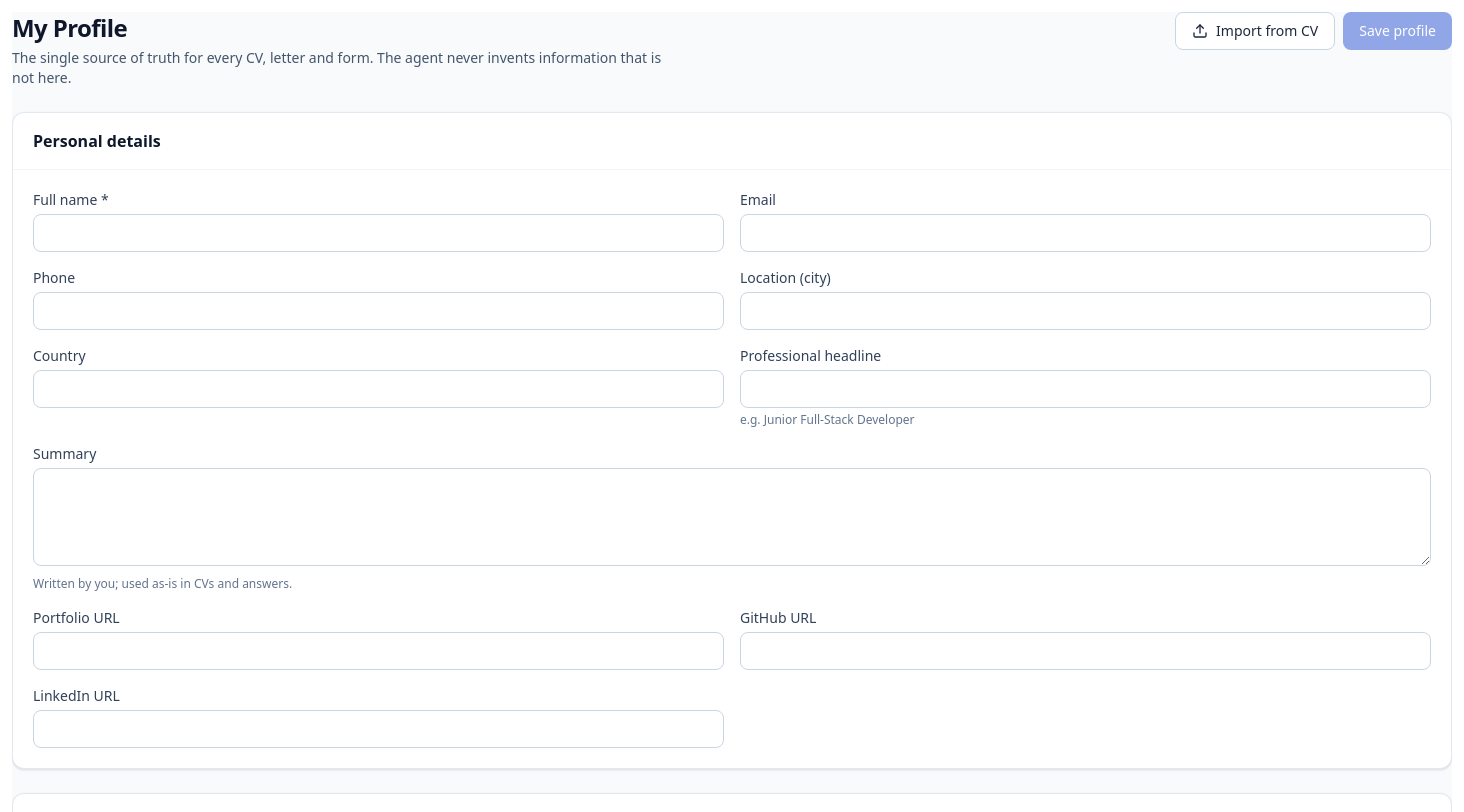
it: ProfilePage › validates required fields and does not call the API
Expected: the heading "My Profile" is shown, [12, 11, 127, 44]
In the field labelled "Full name *": {"x": 378, "y": 233} [33, 214, 724, 252], type "Ada"
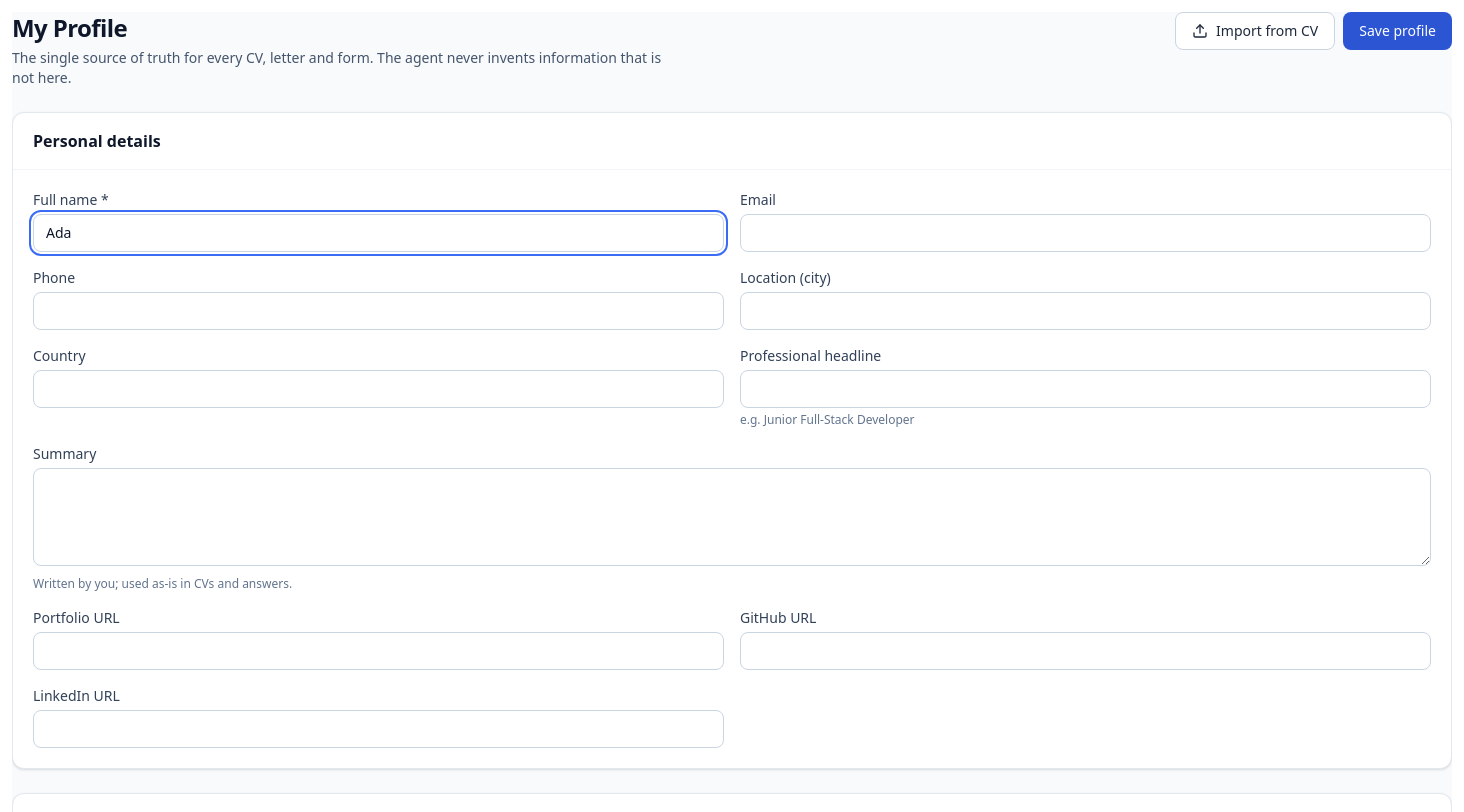
In the field labelled "Email": {"x": 1086, "y": 233} [740, 214, 1431, 252], type "not-an-email"
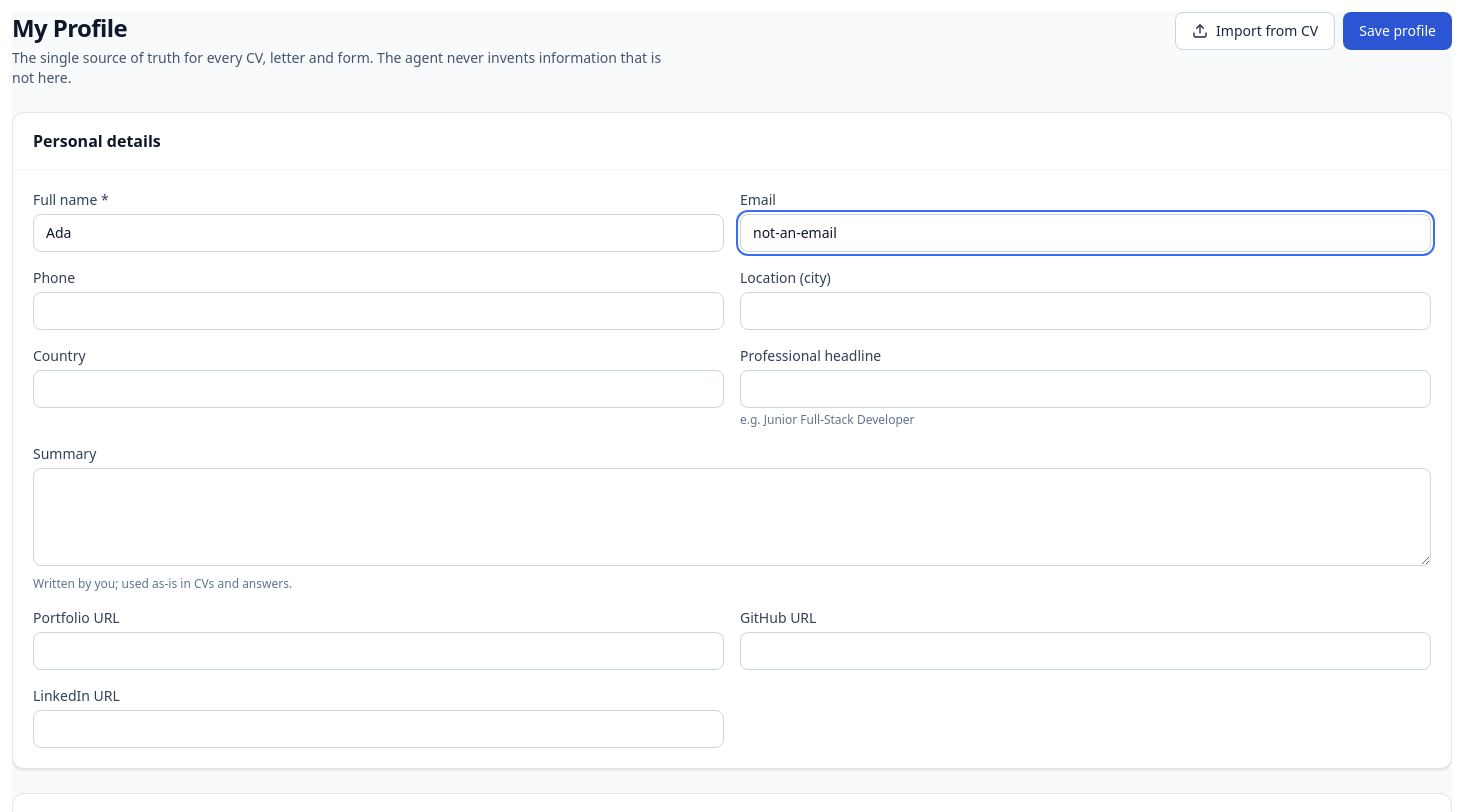
Click the button "Save profile": {"x": 1398, "y": 31} [1343, 12, 1452, 50]
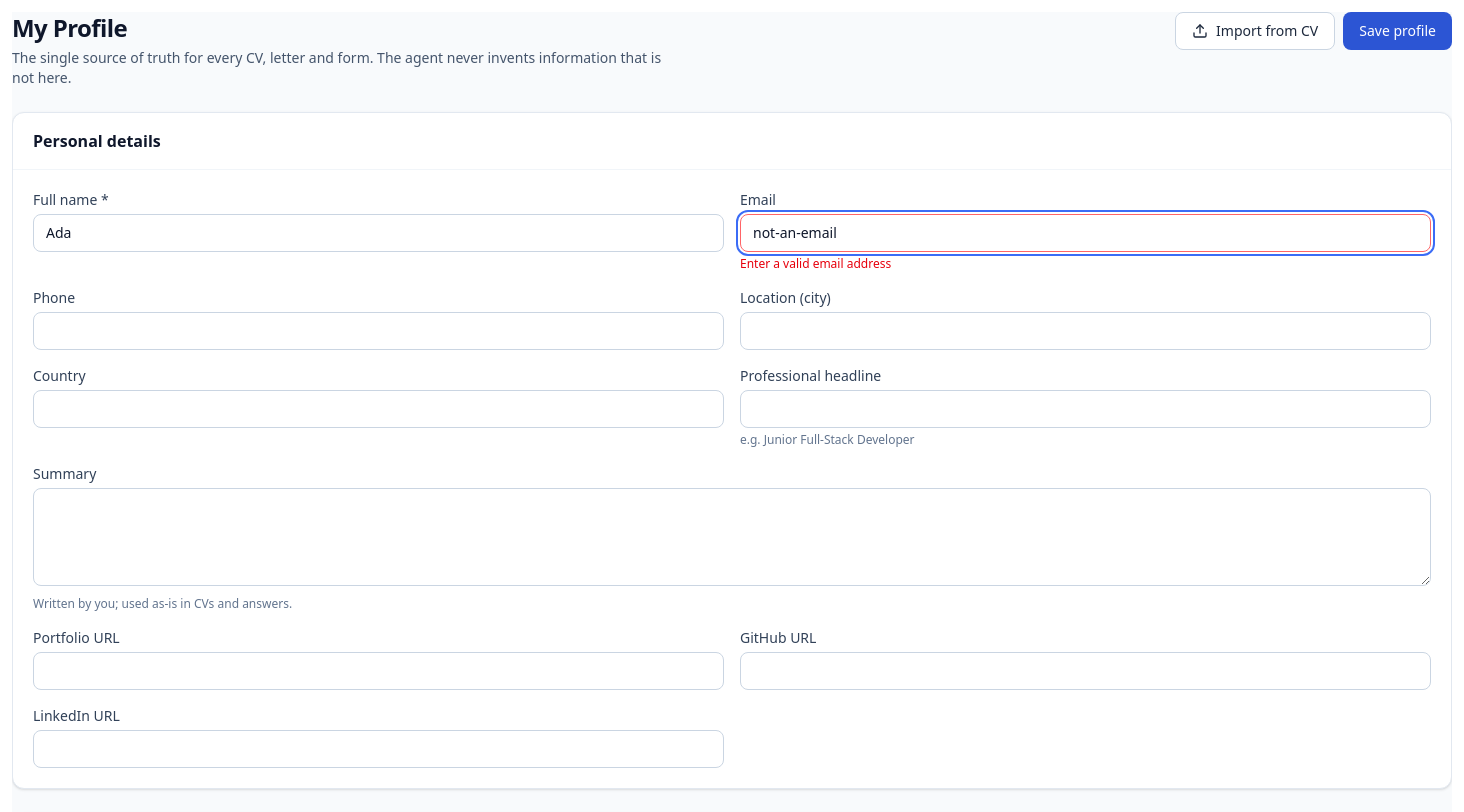
Result: the text "Enter a valid email address" is shown at [740, 255, 891, 272]
